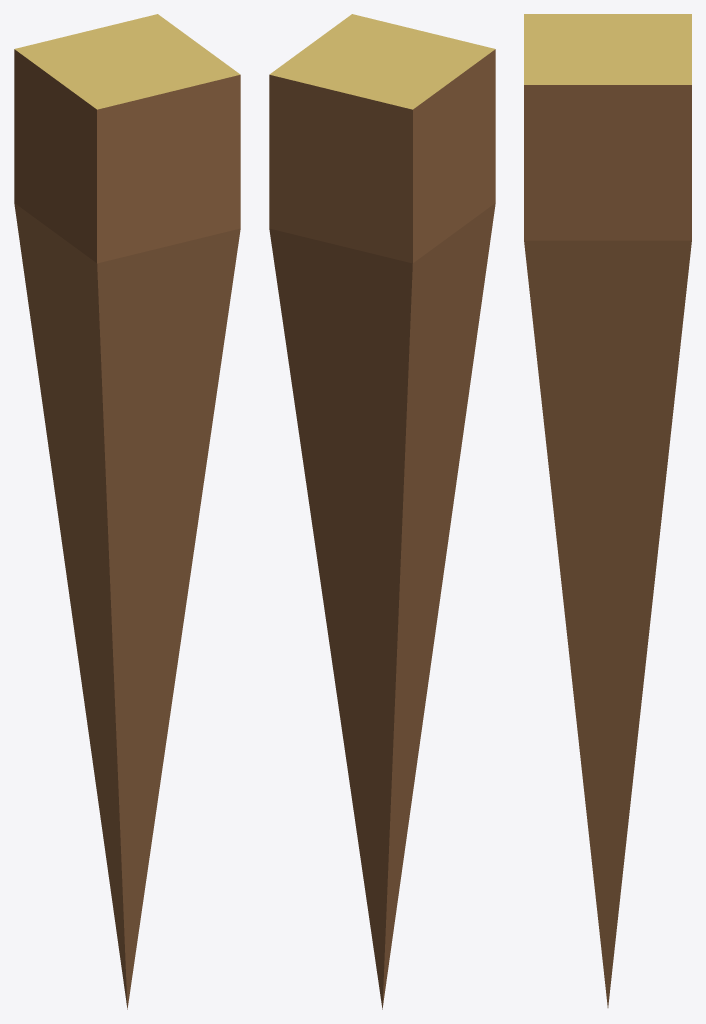
Rendered from WoodSnag.fbx.
3 renders of one model, left to right at view 1: azimuth 30°, elevation 25°; view 2: azimuth 150°, elevation 25°; view 3: azimuth 270°, elevation 25°, orthographic.
Parts seen in each view (by area): view 1: WoodSnag_02_NoRope; view 2: WoodSnag_02_NoRope; view 3: WoodSnag_02_NoRope.
Boxes of the visible parts, left/top/right/bottom form: WoodSnag_02_NoRope: left=14, top=14, right=240, bottom=1009; WoodSnag_02_NoRope: left=269, top=14, right=495, bottom=1009; WoodSnag_02_NoRope: left=524, top=14, right=691, bottom=1007.
Bounding box in the file's own units: 18.72 × 118 × 18.72.
